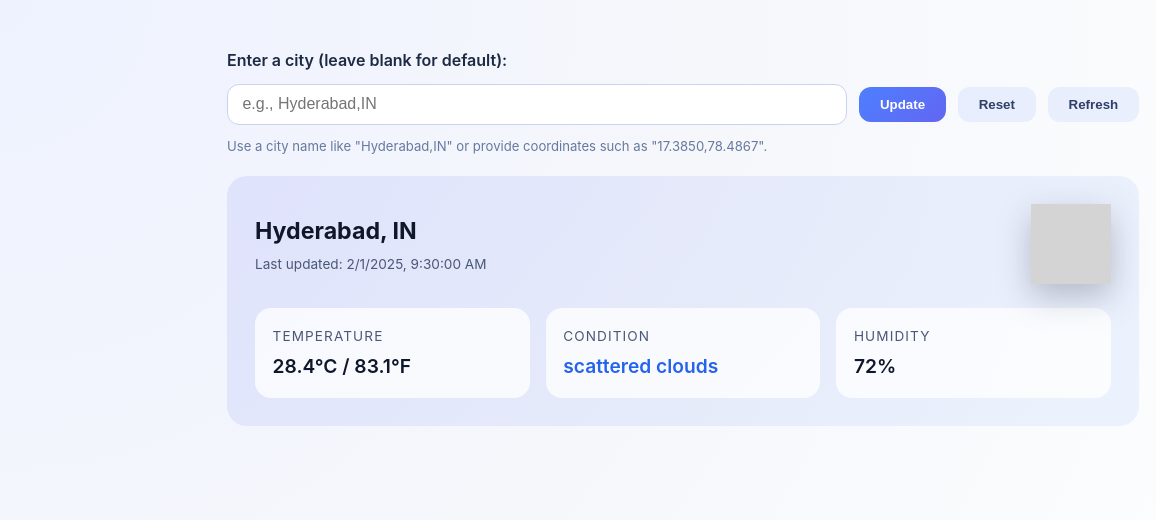
WeatherModule › updates weather when user submits a new city
Expected: the heading "Hyderabad, IN" is shown, [255, 218, 417, 246]
In the field with placeholder "e.g., Hyderabad,IN": (537, 104) [227, 84, 847, 125], type "Mumbai,IN"
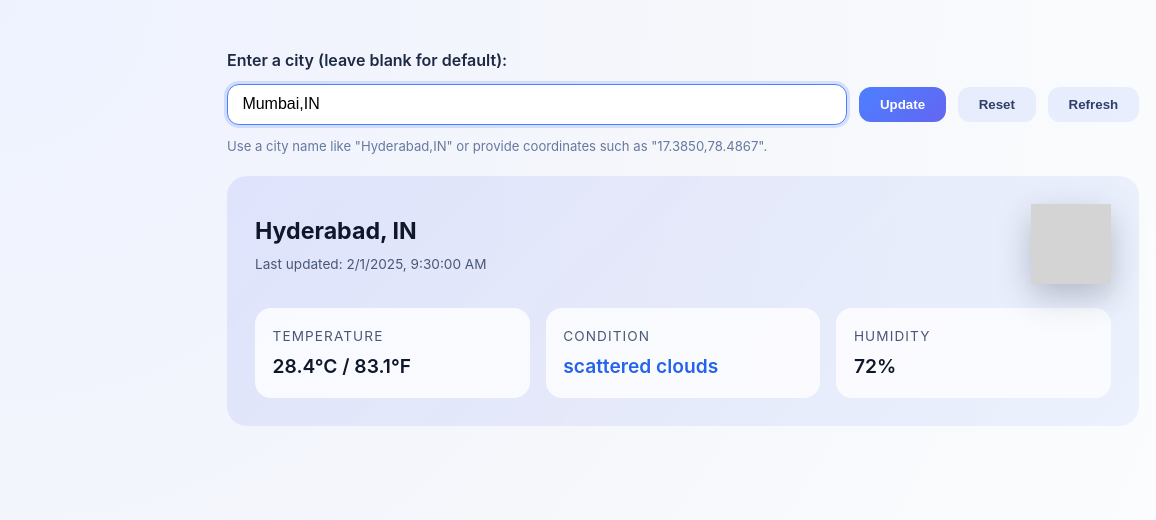
Click the button "Update": (902, 104) [859, 86, 946, 122]
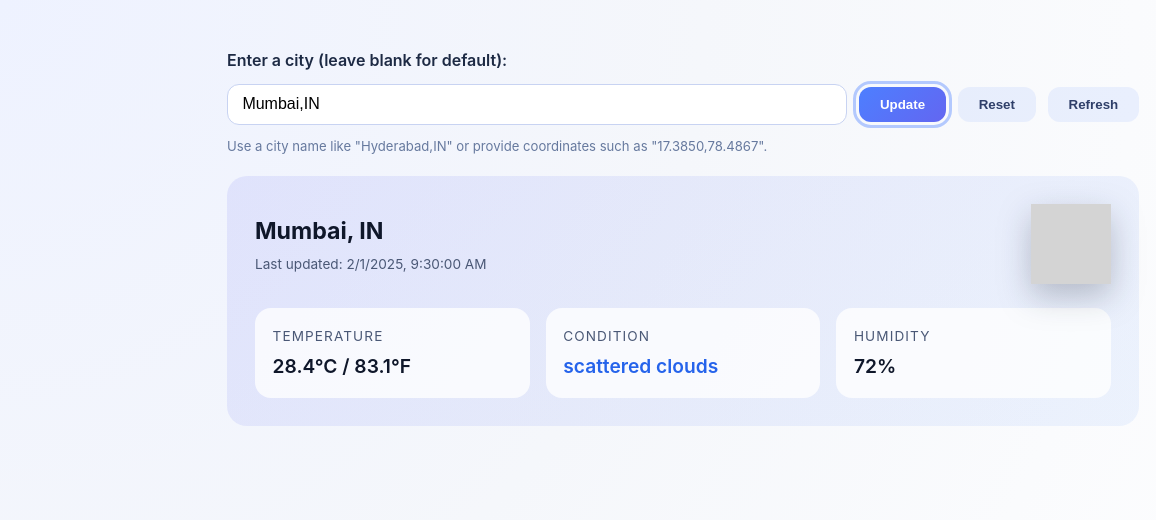
Result: the heading "Mumbai, IN" is shown at [255, 218, 384, 246]
